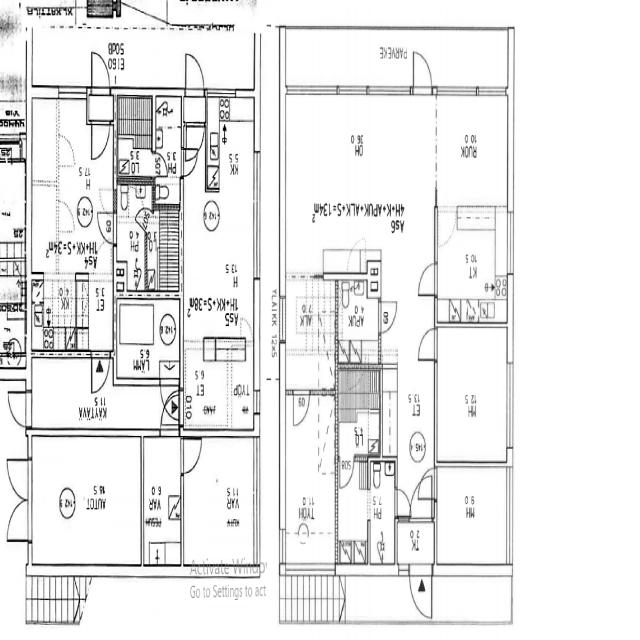door: (3, 453, 33, 547), (394, 514, 436, 566), (394, 479, 432, 519), (408, 566, 433, 619), (411, 468, 437, 516), (5, 386, 32, 430), (183, 48, 206, 98), (89, 47, 112, 97), (435, 203, 458, 252), (411, 48, 434, 96), (88, 118, 112, 162), (344, 235, 367, 280), (415, 258, 439, 300), (89, 350, 111, 394), (180, 433, 203, 475), (376, 297, 399, 338), (160, 381, 180, 428), (292, 387, 312, 429), (416, 326, 438, 364), (182, 137, 202, 178), (95, 208, 116, 246), (57, 132, 77, 170), (337, 454, 356, 491), (394, 485, 413, 519), (153, 150, 167, 177), (240, 316, 253, 342)
window: (250, 146, 263, 285), (502, 351, 517, 457), (502, 459, 516, 565), (502, 206, 516, 282), (430, 358, 440, 461), (366, 82, 412, 100), (435, 82, 478, 99), (208, 81, 245, 99), (335, 81, 368, 99), (57, 82, 88, 99), (276, 294, 286, 344), (252, 386, 262, 418)
zone: (287, 93, 441, 270), (180, 90, 254, 436), (32, 85, 114, 279), (28, 434, 144, 568), (434, 322, 511, 466), (182, 433, 258, 571), (432, 91, 510, 209), (434, 206, 508, 326), (285, 392, 336, 565), (434, 465, 511, 572), (117, 180, 181, 294), (334, 457, 396, 569), (283, 276, 337, 392), (115, 297, 178, 384), (142, 434, 182, 568), (336, 362, 382, 456), (335, 277, 380, 367), (116, 180, 148, 296), (30, 275, 76, 351), (368, 458, 397, 570), (150, 204, 182, 292), (154, 92, 183, 178), (394, 517, 435, 570), (0, 162, 27, 242), (116, 133, 156, 178), (0, 242, 26, 307), (0, 307, 26, 362), (366, 255, 382, 299), (0, 137, 20, 161)
